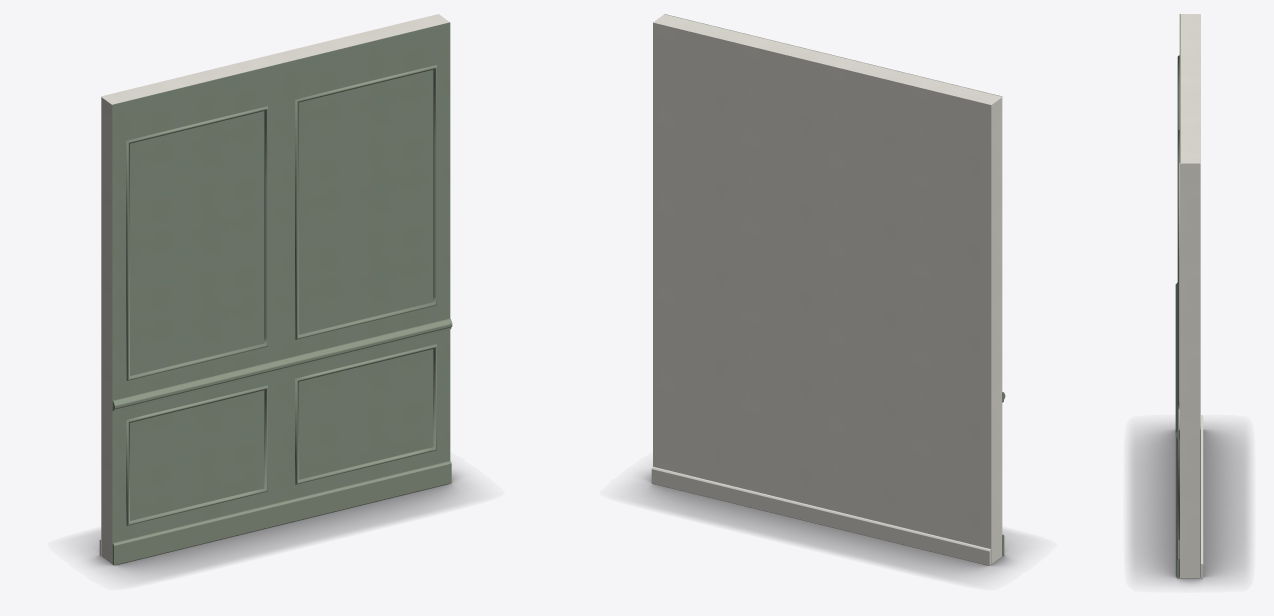
File: wall_wainscot.glb
3 views of the same model, side by side, from view 1: azimuth 30°, elevation 25°; view 2: azimuth 150°, elevation 25°; view 3: azimuth 270°, elevation 25° (orthographic). The views are drawn at different scales.
Visible parts, largest first — view 1: wall_wainscot_LOD0, wall_wainscot_Shadow; view 2: wall_wainscot_LOD0, wall_wainscot_Shadow; view 3: wall_wainscot_Shadow, wall_wainscot_LOD0.
Boxes of the visible parts, <box> form: wall_wainscot_LOD0: <box>99,14,452,565</box>; wall_wainscot_Shadow: <box>81,470,470,579</box>; wall_wainscot_LOD0: <box>651,14,1005,565</box>; wall_wainscot_Shadow: <box>632,471,1022,579</box>; wall_wainscot_Shadow: <box>1130,424,1248,584</box>; wall_wainscot_LOD0: <box>1175,14,1203,578</box>.
Size of what is drawn, in the model's own units: 2.64 by 2.6 by 0.798.
5 materials, 3 textured.
